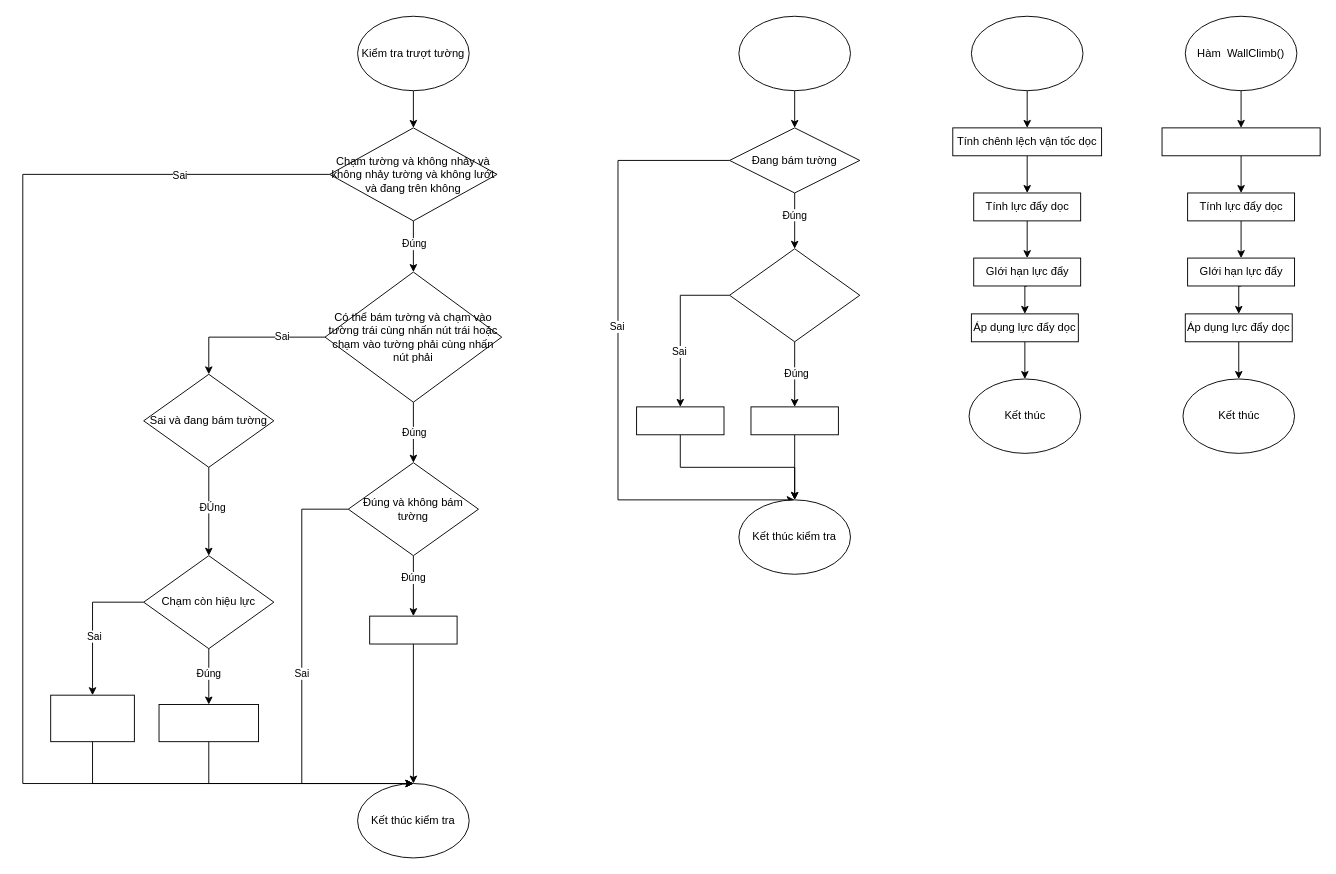
Some shapes in this 1336 by 874 pixel diagram are drawn without their labels. The centre of each missing label's shape, as x and y in pixels:
"Bấm nút lên" belongs at (794,295).
"Bật bám tường" belongs at (413,629).
"Gọi Slide()" belongs at (680,420).
"Gọi WallClimb()" belongs at (794,420).
"Hàm Slide()" belongs at (1026,53).
"Thực thi trượt tường" belongs at (794,53).
"Tính chênh lệch vận tốc để leo" belongs at (1240,141).
"Tắt bám tường Bật chạm mặt đất" belongs at (208,723).
"Tắt bám tường Bật đang rơi" belongs at (92,718).
